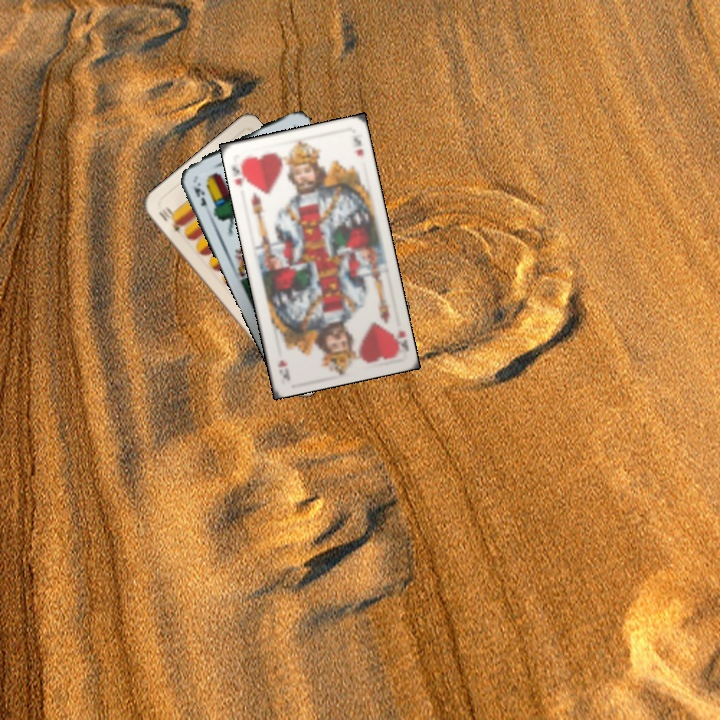E10: (155, 204, 184, 234)
EK: (190, 178, 209, 209)
HK: (387, 326, 411, 354), (228, 162, 251, 190)
